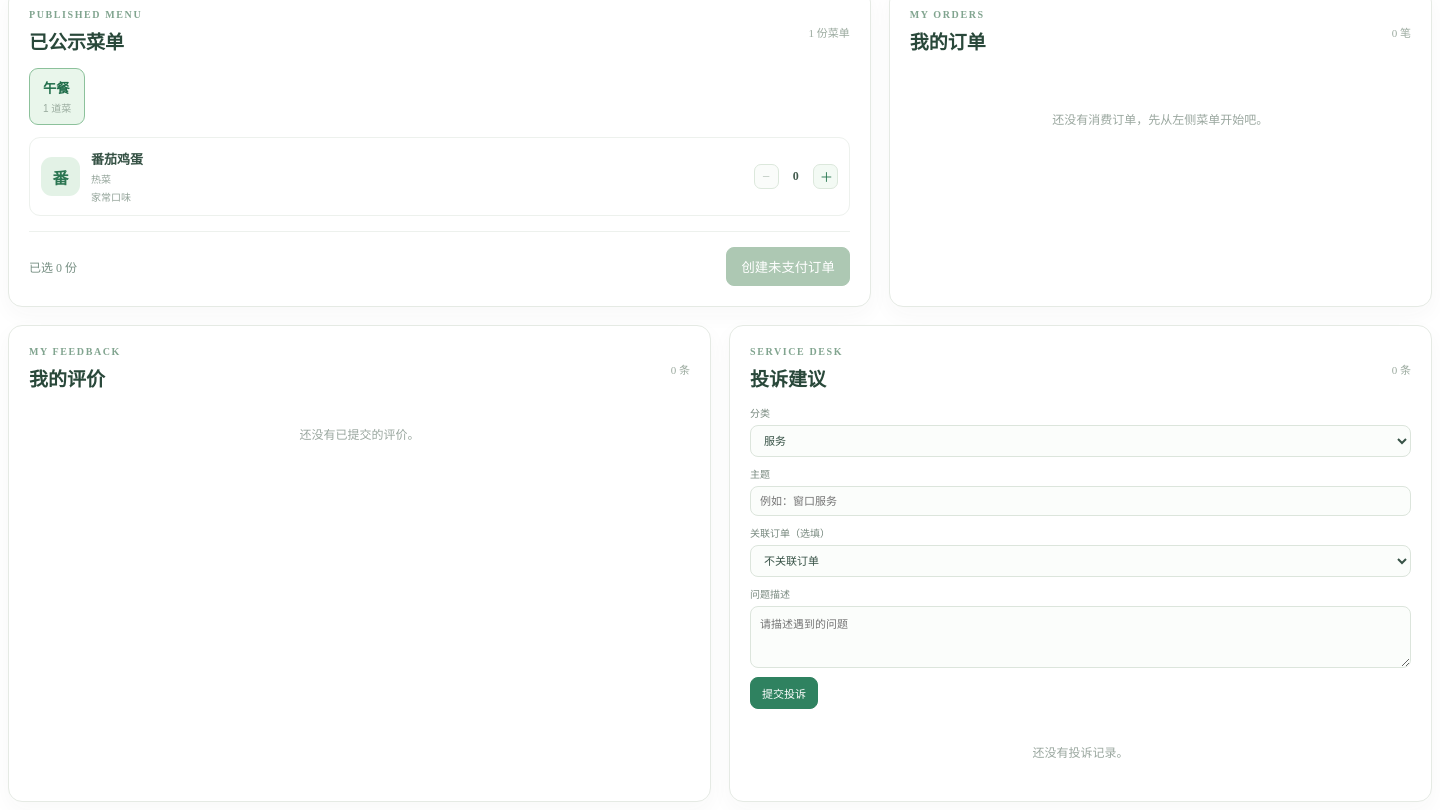
Test: DinerWorkspace › submits an employee complaint and reloads personal complaints
(page scrolled)
Type "窗口服务" into the field with placeholder "例如：窗口服务" at [1080, 501], box [750,486,1411,516]
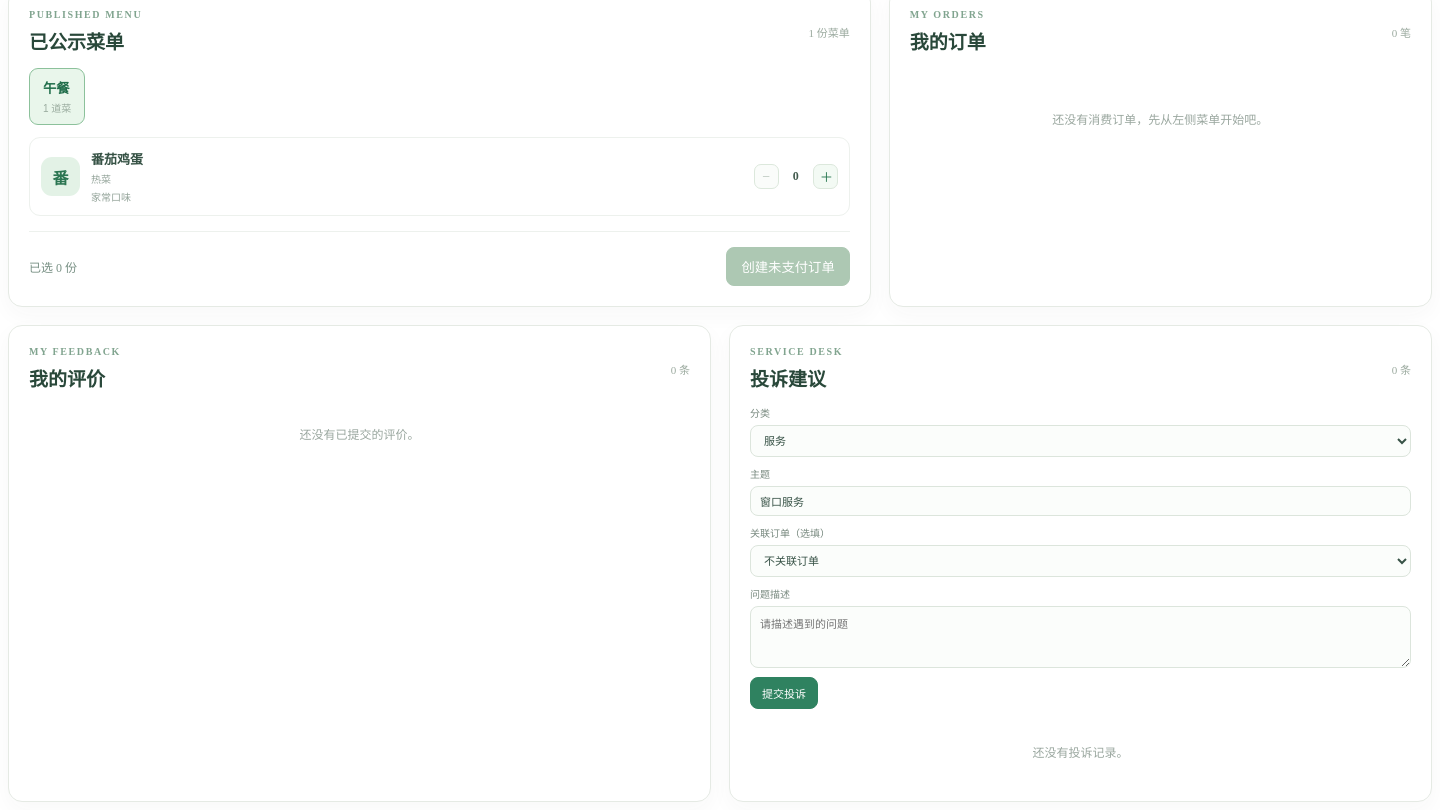
Type "排队时间较长" into the text box with placeholder "请描述遇到的问题" at [1080, 637], box [750,606,1411,668]
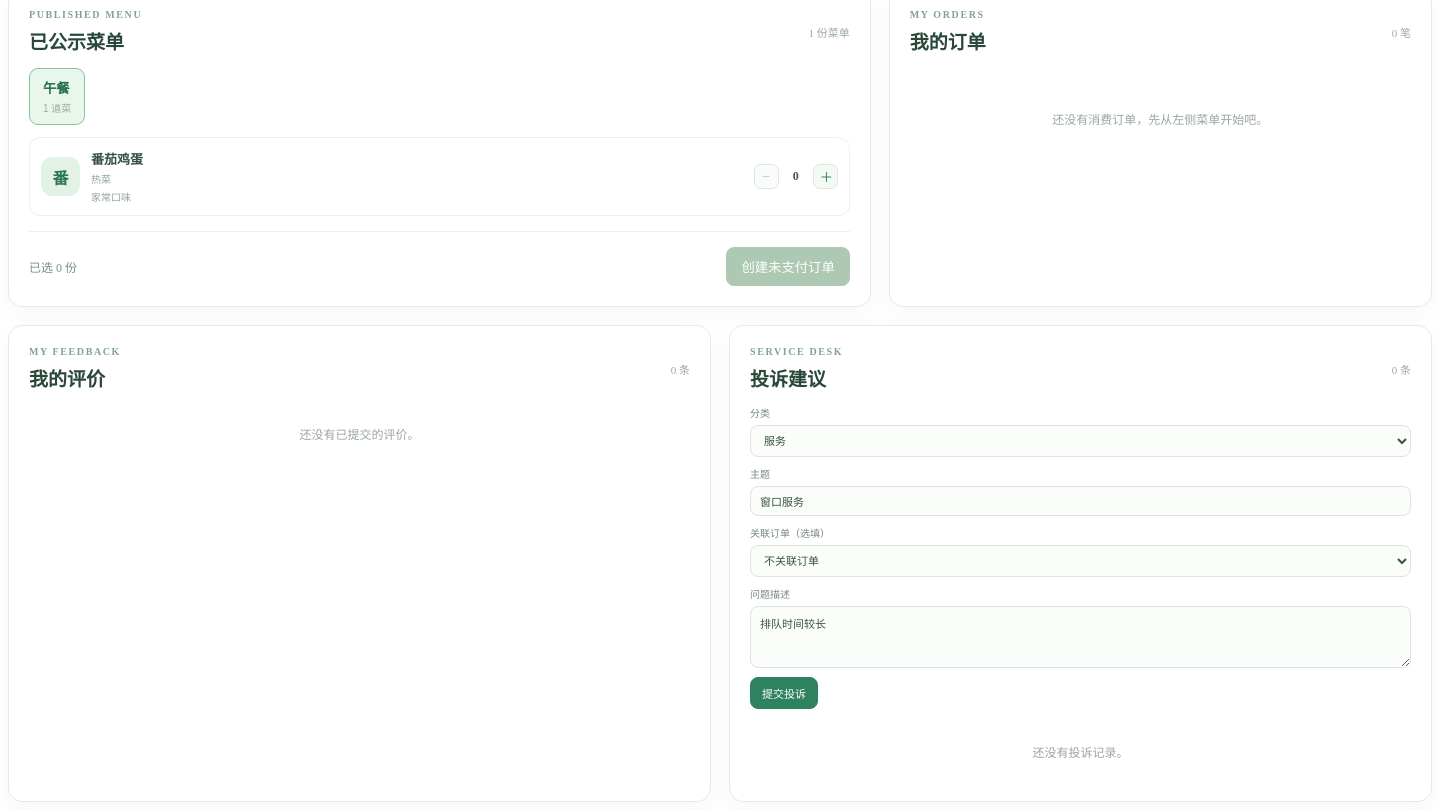
Submit the form with class "complaint-form", box [750,405,1411,709]
(page scrolled)
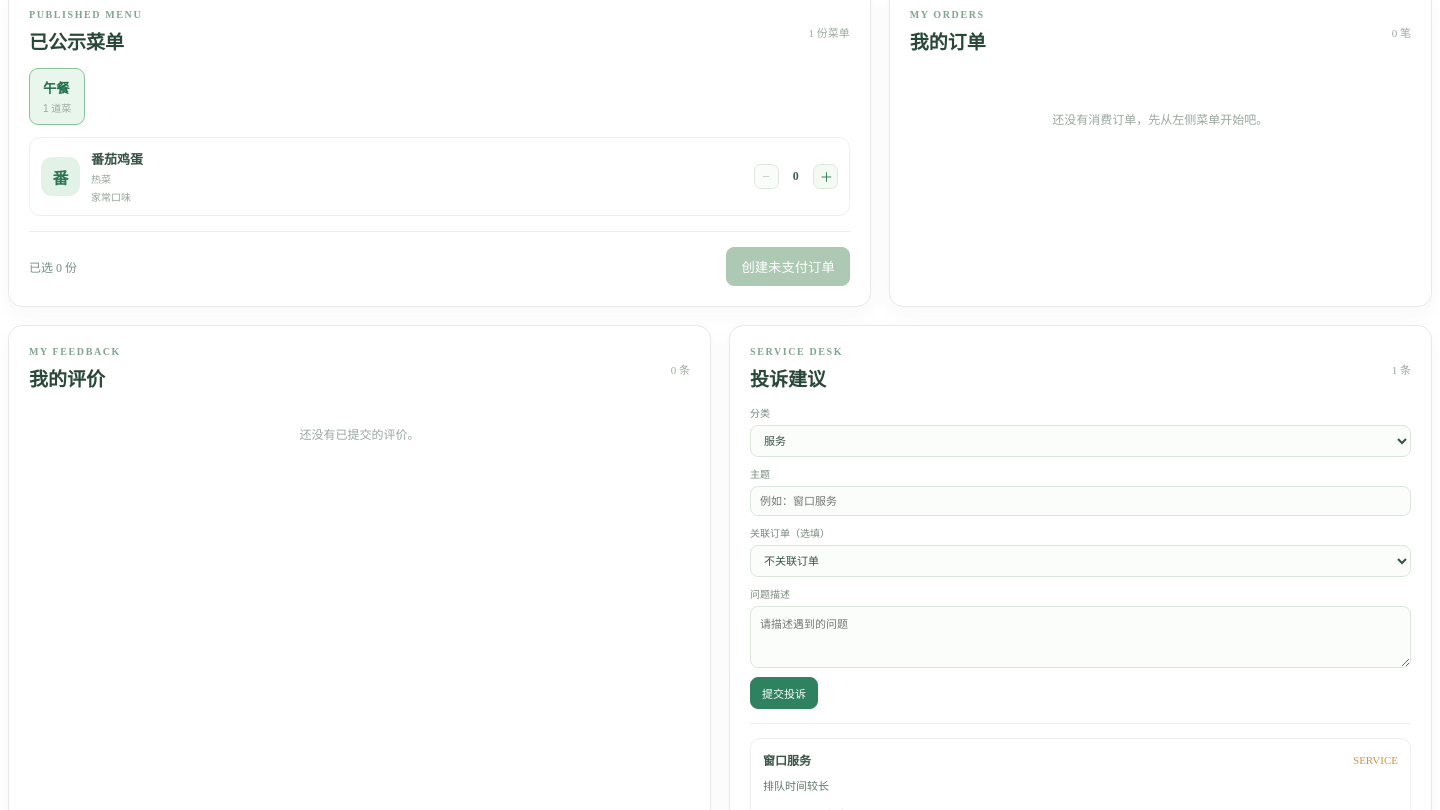
Result: the text "排队时间较长" is shown at [763,780,829,792]
